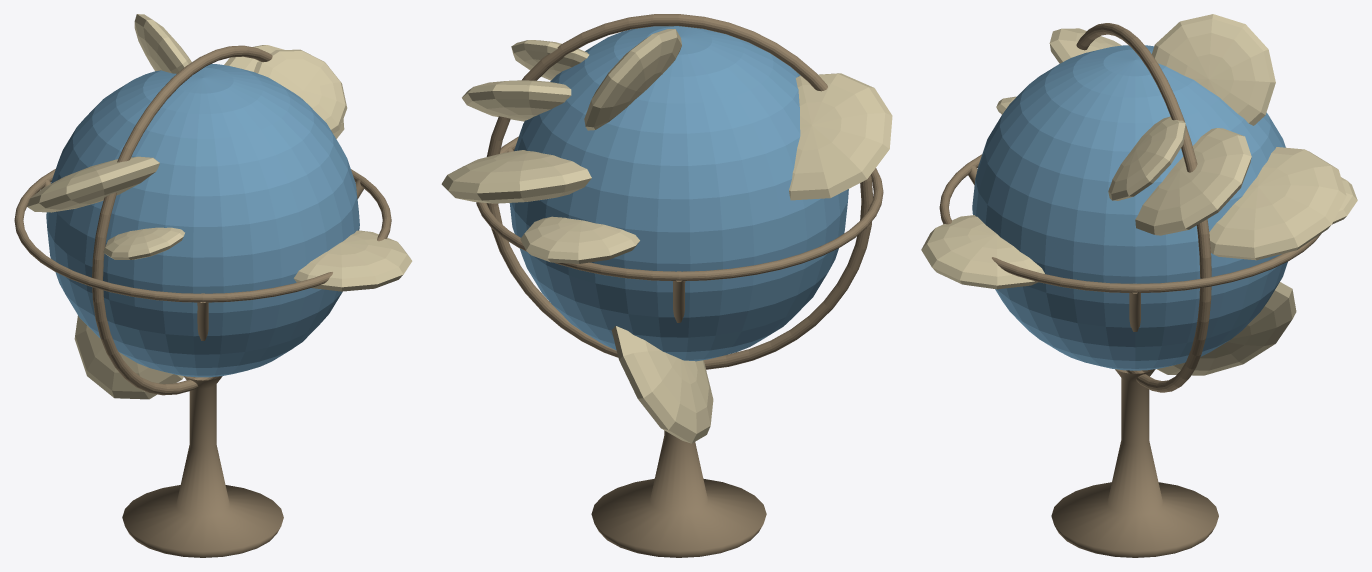
Rendered from globe_stand.glb.
3 renders of one model, left to right at view 1: azimuth 30°, elevation 25°; view 2: azimuth 150°, elevation 25°; view 3: azimuth 270°, elevation 25°, orthographic. The views are drawn at different scales.
Visible parts, largest first — view 1: globe_stand; view 2: globe_stand; view 3: globe_stand.
Part boxes in pixels (x1,y1,x2,y2): globe_stand: (14,14,412,557); globe_stand: (441,14,892,557); globe_stand: (921,14,1357,557).
Bounding box in the file's own units: 1.76 × 2.37 × 1.87.
